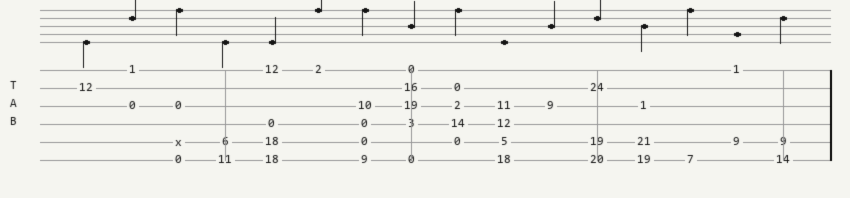0: (129, 100, 140, 112), (175, 100, 186, 112), (175, 154, 186, 166), (268, 118, 279, 130), (361, 118, 372, 130), (361, 136, 372, 148), (408, 154, 419, 166), (408, 64, 419, 76), (454, 82, 465, 94), (454, 136, 465, 148)
1: (129, 64, 140, 76), (640, 100, 651, 112), (733, 64, 744, 76)
10: (358, 100, 376, 112)
11: (218, 154, 236, 166), (497, 100, 515, 112)
12: (79, 82, 97, 94), (265, 64, 283, 76), (497, 118, 515, 130)
14: (451, 118, 469, 130), (776, 154, 794, 166)
16: (404, 82, 422, 94)
18: (265, 154, 283, 166), (265, 136, 283, 148), (497, 154, 515, 166)
19: (404, 100, 422, 112), (590, 136, 608, 148), (637, 154, 655, 166)
2: (315, 64, 326, 76), (454, 100, 465, 112)
20: (590, 154, 608, 166)
21: (637, 136, 655, 148)
24: (590, 82, 608, 94)
3: (408, 118, 419, 130)
5: (501, 136, 512, 148)
6: (222, 136, 233, 148)
7: (687, 154, 698, 166)
9: (361, 154, 372, 166), (547, 100, 558, 112), (733, 136, 744, 148), (780, 136, 791, 148)
x: (175, 137, 186, 147)
